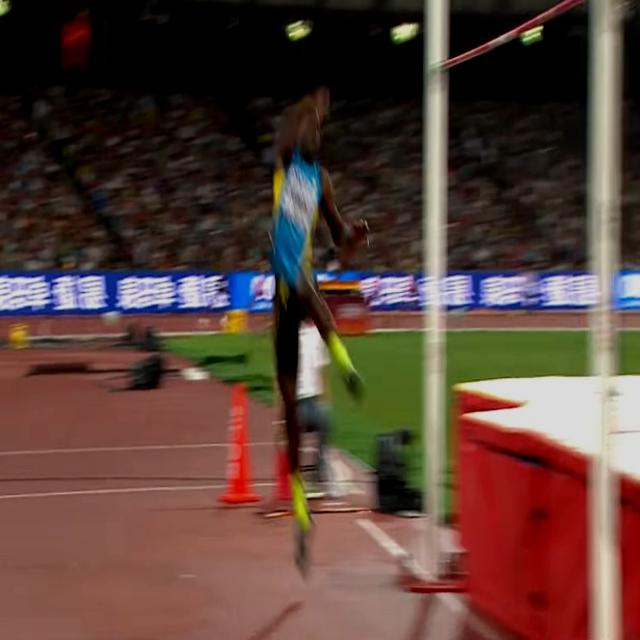jump: (269, 84, 372, 572)
